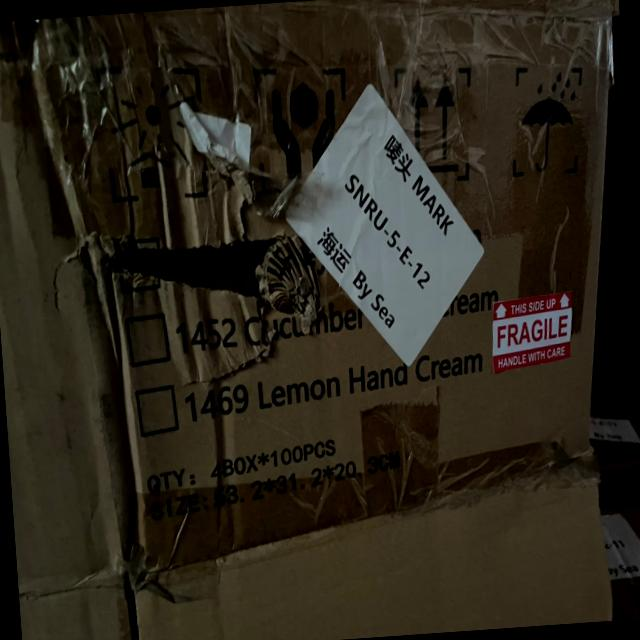carton_box: (0, 0, 640, 640)
export_mark_label: (284, 79, 486, 362)
fragile_label: (492, 309, 581, 366)
handle_with_care_label: (243, 54, 353, 194)
keep_dry_label: (510, 51, 594, 182)
package_damage: (32, 62, 340, 393)
protect_from_heat_label: (100, 62, 208, 196)
this_side_up_label: (394, 58, 477, 178), (491, 288, 574, 325)
